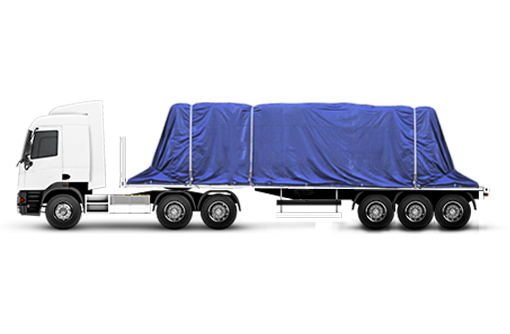truck: (16, 97, 491, 229)
